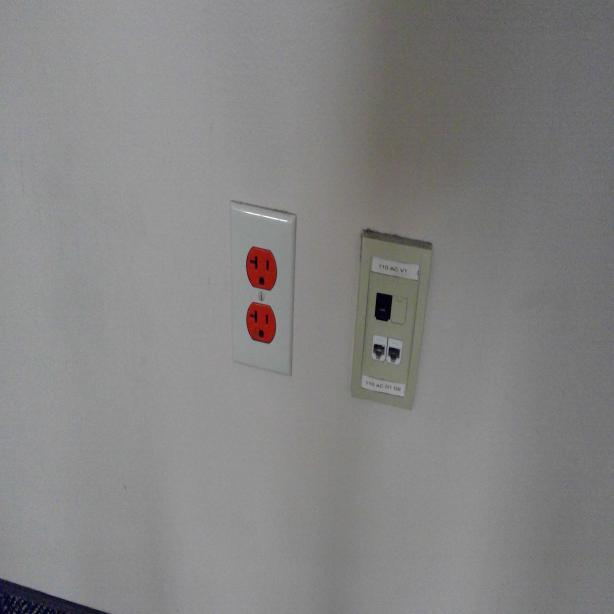typeb: (245, 246, 276, 288), (247, 302, 276, 344)
